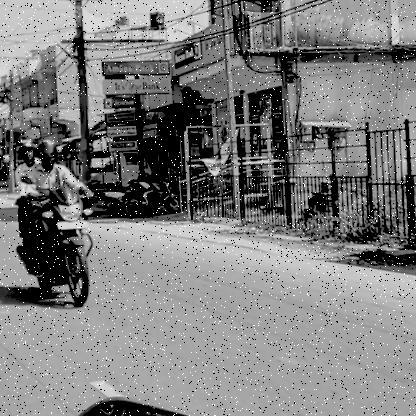motorcycle: (10, 185, 101, 310)
